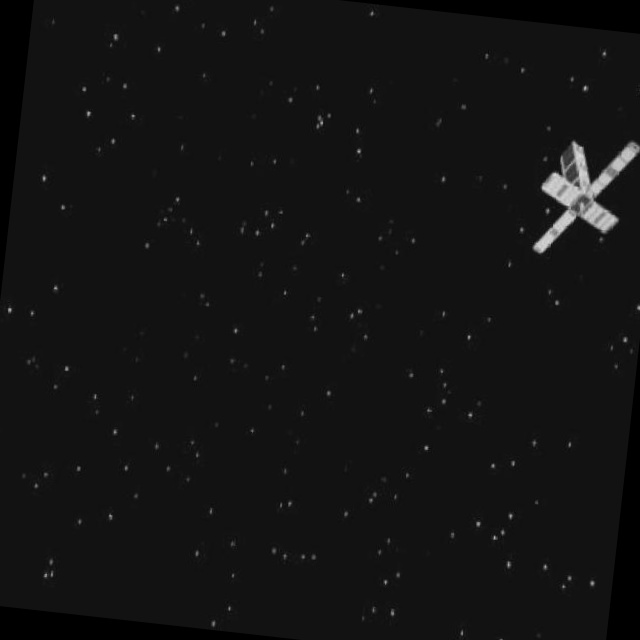satellite: (525, 125, 640, 272)
